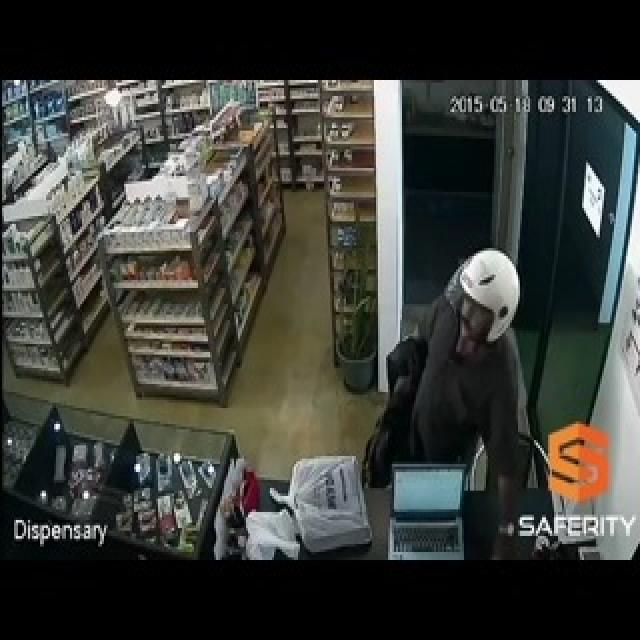thief: (412, 289, 524, 492)
